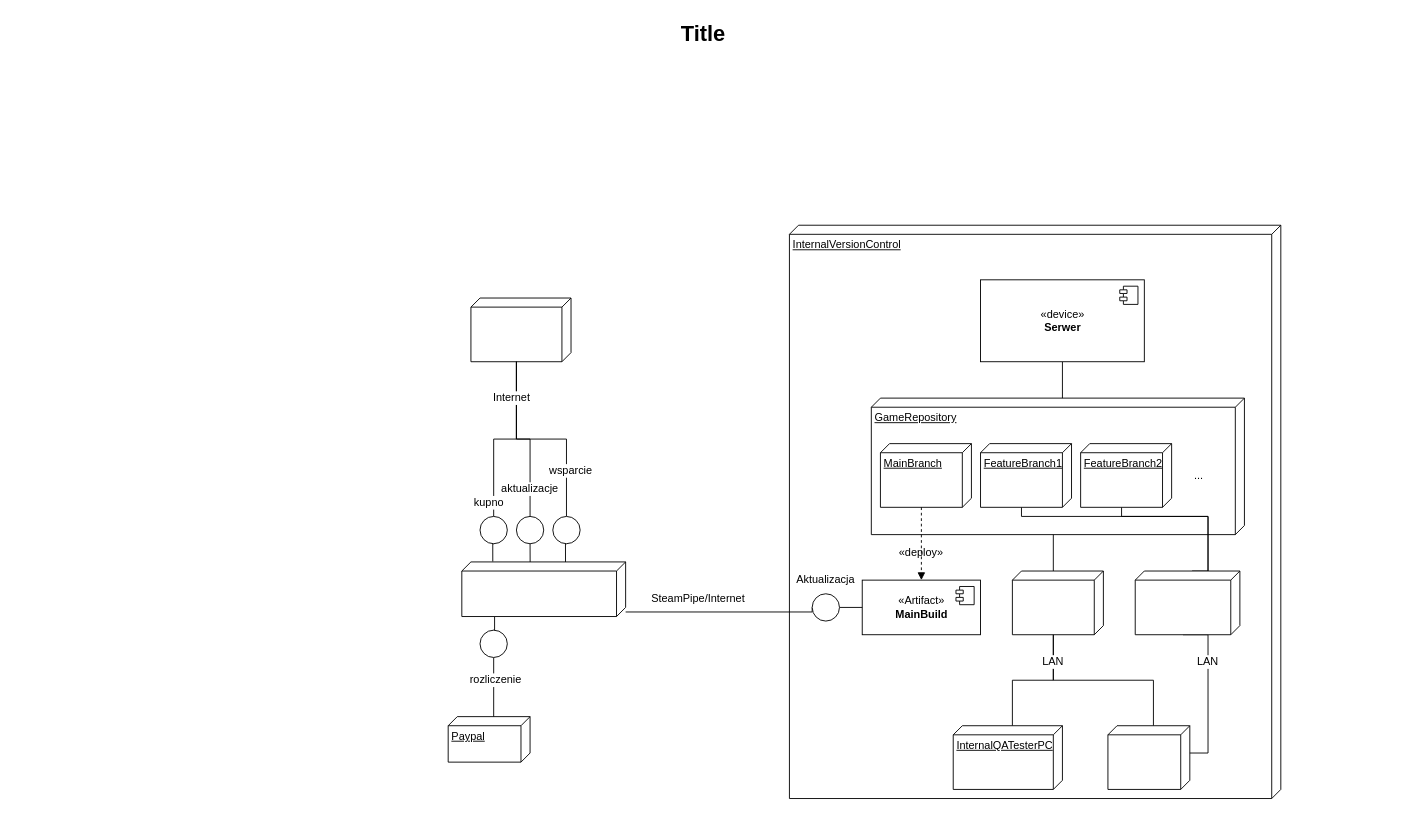
The diagram is 1405 pixels wide and 814 high, and some of its shapes have lost their labels. Each missing label, with the centre of its shape:
"ContinousDelivery" goes at [1187,602].
"DeveloperPC" goes at [1148,757].
"GIT" goes at [1057,602].
"SerwerSteam" goes at [543,589].
"«device» PCKlienta" goes at [520,329].
